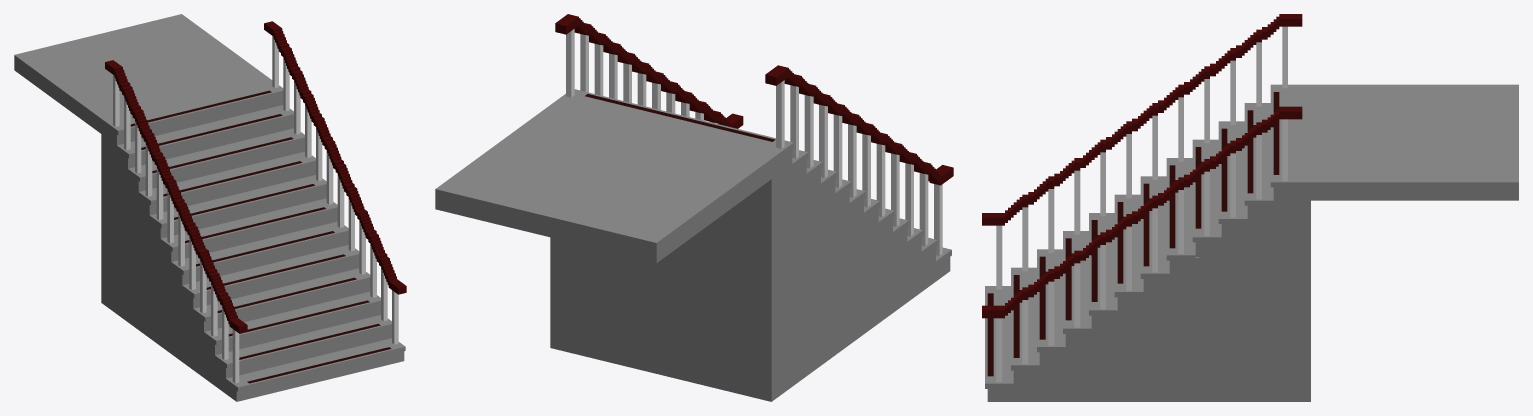
Rendered from Stairs2.fbx.
3 renders of one model, left to right at view 1: azimuth 30°, elevation 25°; view 2: azimuth 150°, elevation 25°; view 3: azimuth 270°, elevation 25°, orthographic. The views are drawn at different scales.
Parts seen in each view (by area): view 1: Stairs1-5-2.002, Stairs1-5-1.001, Stairs1-5-2.000, Stairs1-5-1.003, Stairs1-5-1.000; view 2: Stairs1-5-2.000, Stairs1-5-1.001, Stairs1-5-1.003, Stairs1-5-2.002, Stairs1-5-1.000; view 3: Stairs1-5-1.001, Stairs1-5-2.002, Stairs1-5-2.000, Stairs1-5-1.003, Stairs1-5-1.000.
Boxes of the visible parts, x1,y1,x2,y2 form: Stairs1-5-2.002: [137, 175, 406, 401]; Stairs1-5-1.001: [68, 21, 364, 249]; Stairs1-5-2.000: [101, 180, 220, 389]; Stairs1-5-1.003: [14, 14, 235, 116]; Stairs1-5-1.000: [101, 134, 134, 204]; Stairs1-5-2.000: [550, 205, 929, 401]; Stairs1-5-1.001: [507, 14, 897, 209]; Stairs1-5-1.003: [435, 136, 788, 263]; Stairs1-5-2.002: [666, 91, 953, 285]; Stairs1-5-1.000: [709, 176, 816, 239]; Stairs1-5-1.001: [1083, 14, 1388, 255]; Stairs1-5-2.002: [982, 158, 1224, 401]; Stairs1-5-2.000: [1025, 255, 1310, 401]; Stairs1-5-1.003: [1279, 84, 1518, 200]; Stairs1-5-1.000: [1230, 200, 1310, 255].
Size of the model in its own units: 800 by 1110 by 1860.
